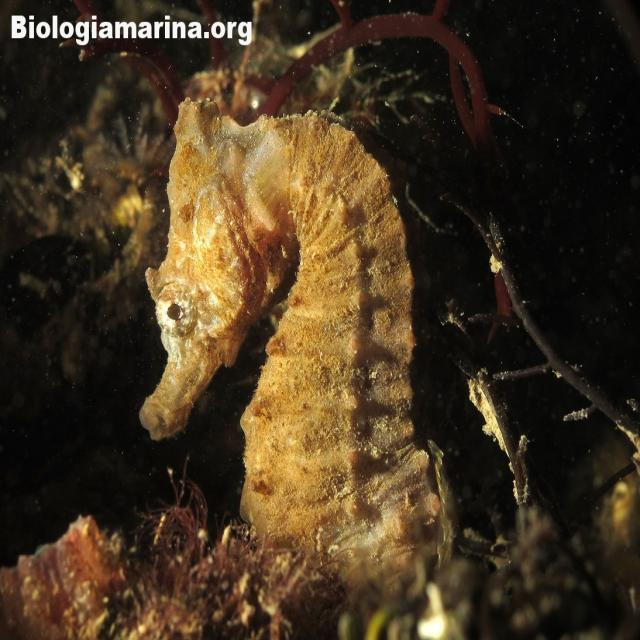Hippo: (131, 92, 275, 449)
